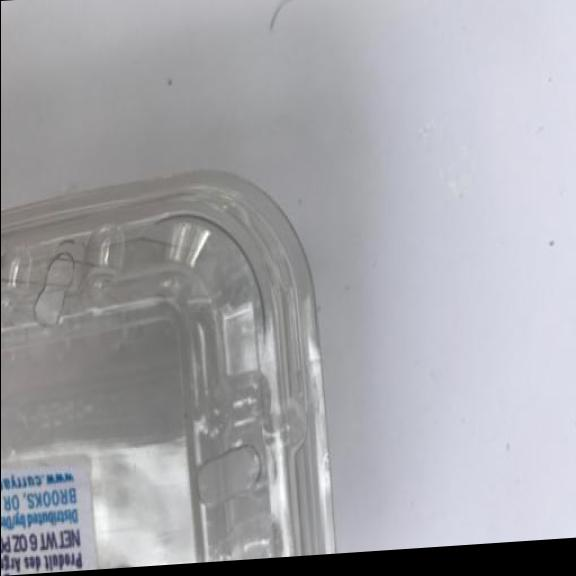Plastik: (0, 154, 343, 576)
